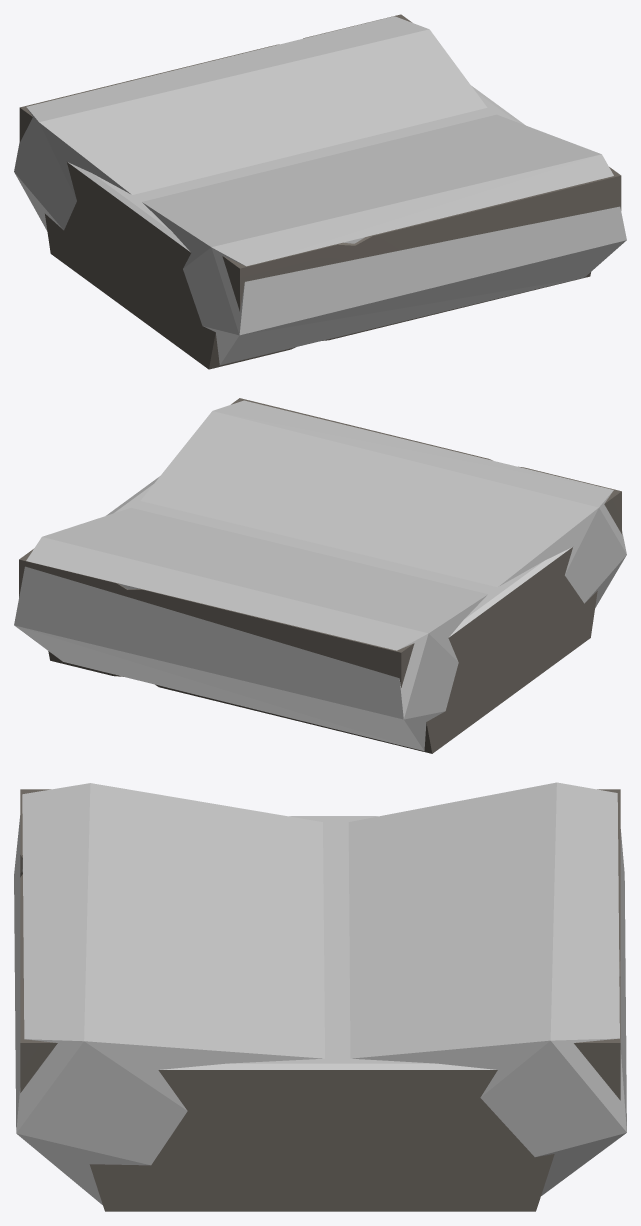
File: SM_Env_Rock_Bridge_01.fbx
The picture shows the model from 3 angles, top to bottom: view 1: azimuth 30°, elevation 25°; view 2: azimuth 150°, elevation 25°; view 3: azimuth 270°, elevation 25°; orthographic projection. The views are drawn at different scales.
Parts seen in each view (by area): view 1: SM_Env_Rock_Bridge_01_ConvexHulls, SM_Env_Rock_Bridge_01; view 2: SM_Env_Rock_Bridge_01_ConvexHulls, SM_Env_Rock_Bridge_01; view 3: SM_Env_Rock_Bridge_01_ConvexHulls, SM_Env_Rock_Bridge_01.
Boxes of the visible parts, <box> form: SM_Env_Rock_Bridge_01_ConvexHulls: <box>14,16,626,365</box>; SM_Env_Rock_Bridge_01: <box>19,14,621,369</box>; SM_Env_Rock_Bridge_01_ConvexHulls: <box>14,400,626,751</box>; SM_Env_Rock_Bridge_01: <box>19,398,621,753</box>; SM_Env_Rock_Bridge_01_ConvexHulls: <box>14,782,626,1204</box>; SM_Env_Rock_Bridge_01: <box>20,789,620,1211</box>.
Size of the model in its own units: 511 by 511 by 159.
